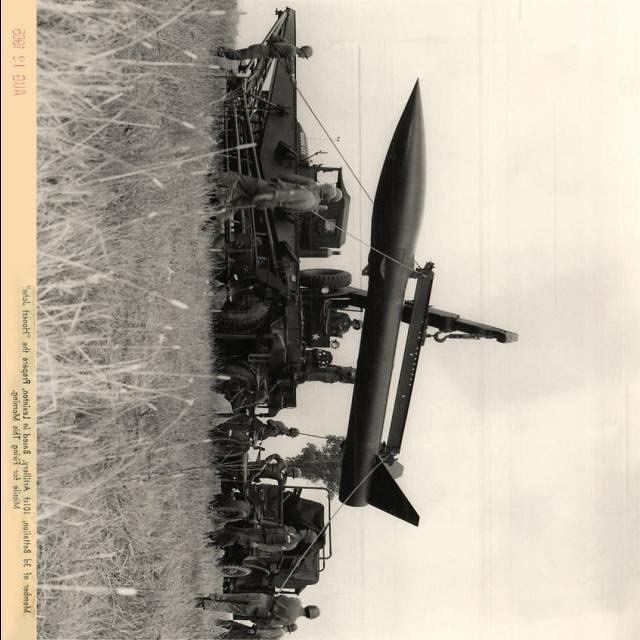missile: (337, 73, 430, 530)
